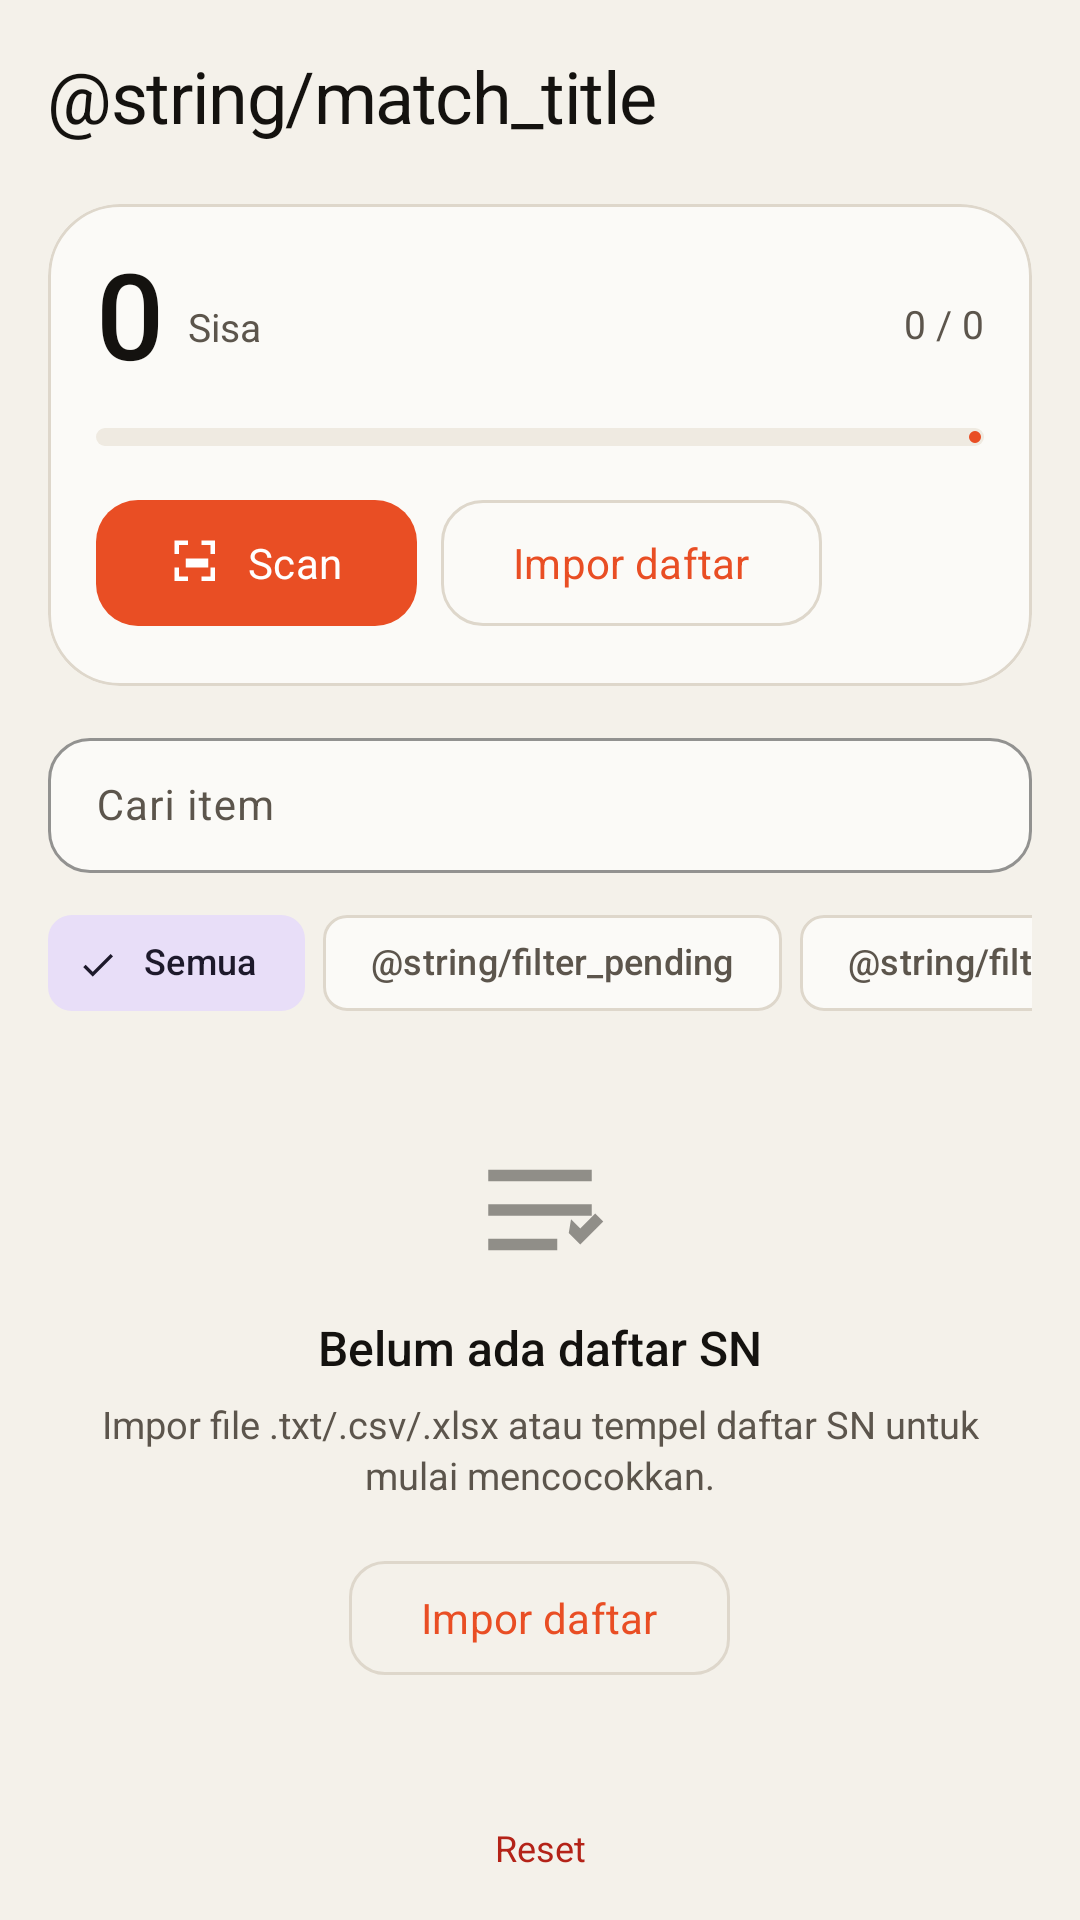

Icon click points for this 1080w x 1920h phone screenshot, format (x=x, y=y):
match: (x=545, y=1210)
